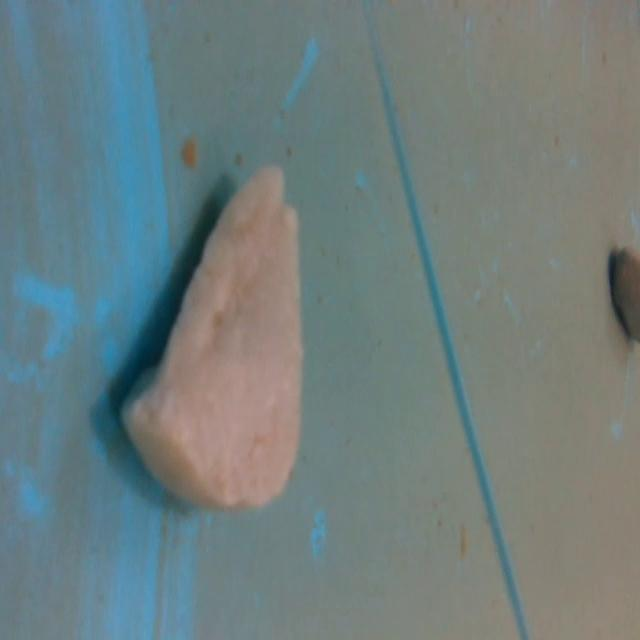rock: (107, 154, 310, 522)
